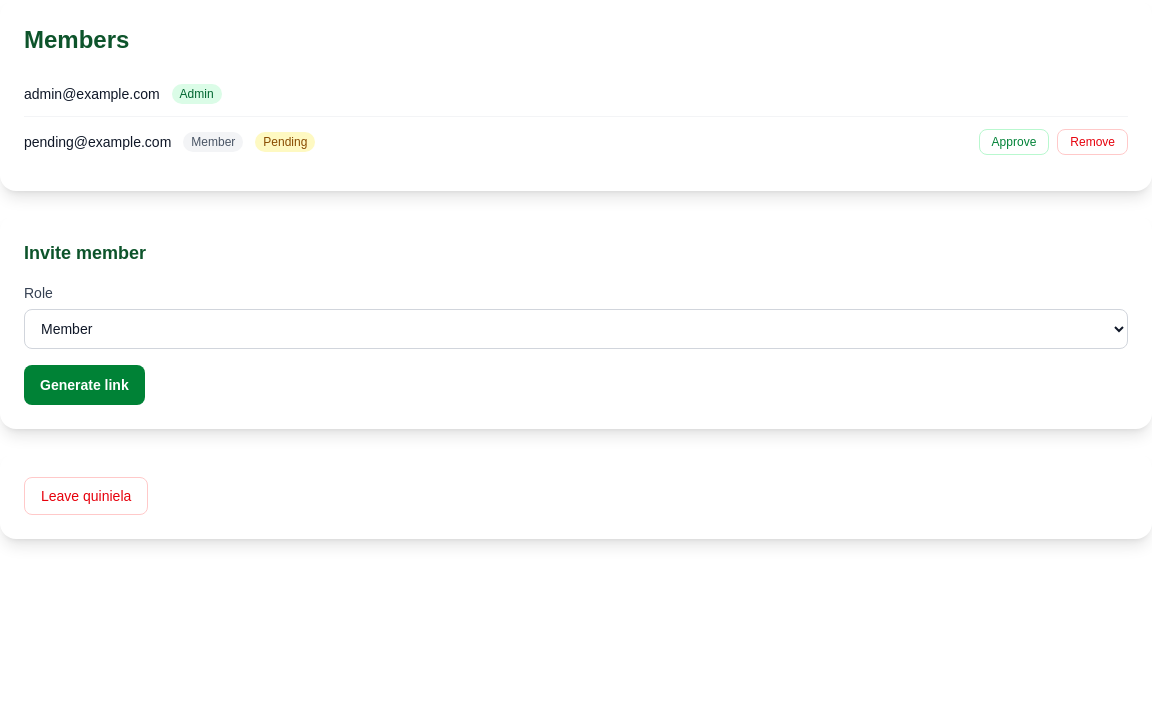
Test: MembersClient › removes Pending badge after successful approve
The image size is (1152, 720).
Step 1. Click the button "Approve" → (1014, 142), box [979,129,1049,155]
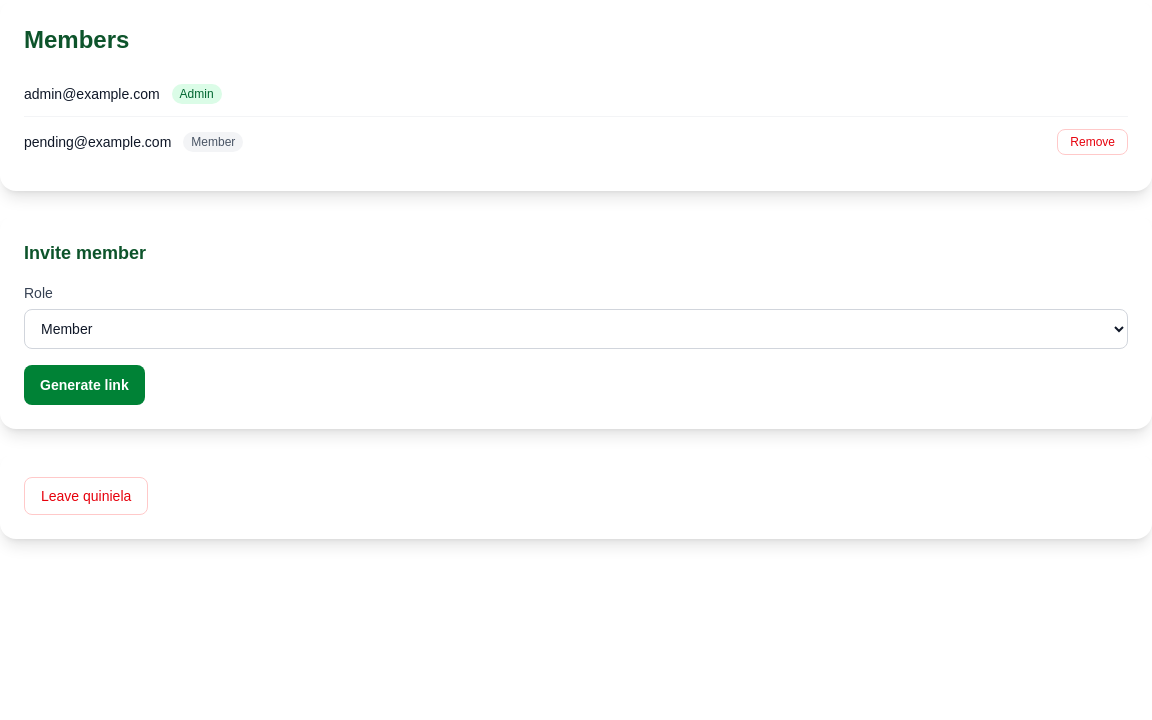
Now the button "Approve" is gone
